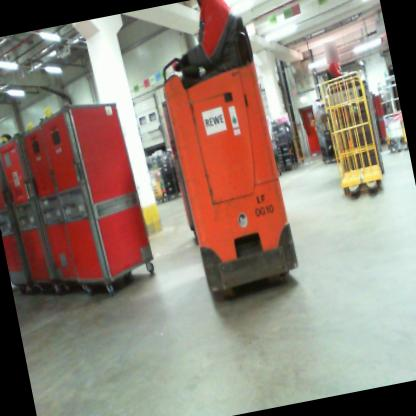pallet: (386, 140, 408, 156)
pallet_truck: (142, 3, 311, 319), (310, 71, 391, 204)
